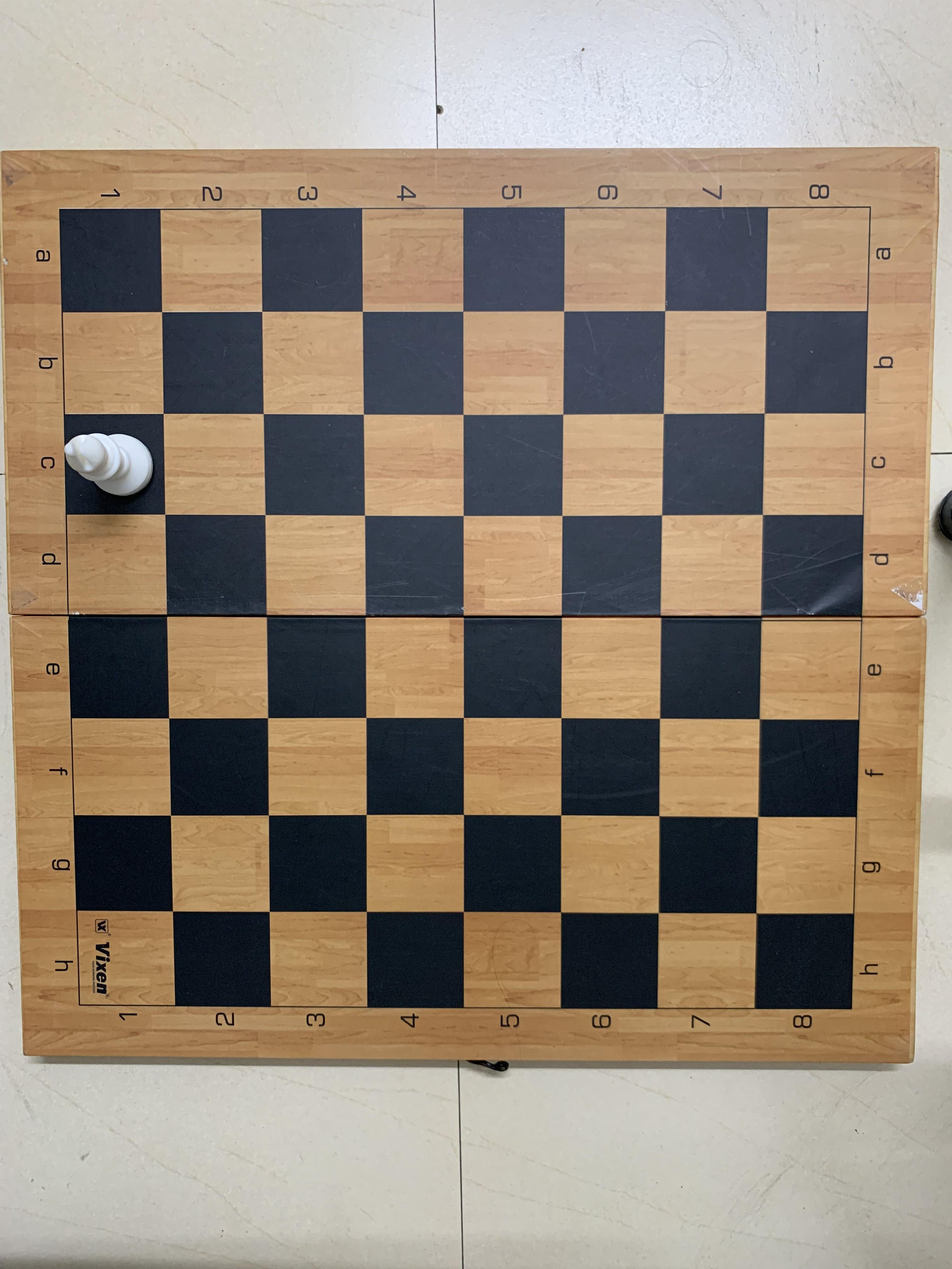white_bishop: (63, 419, 168, 517)
